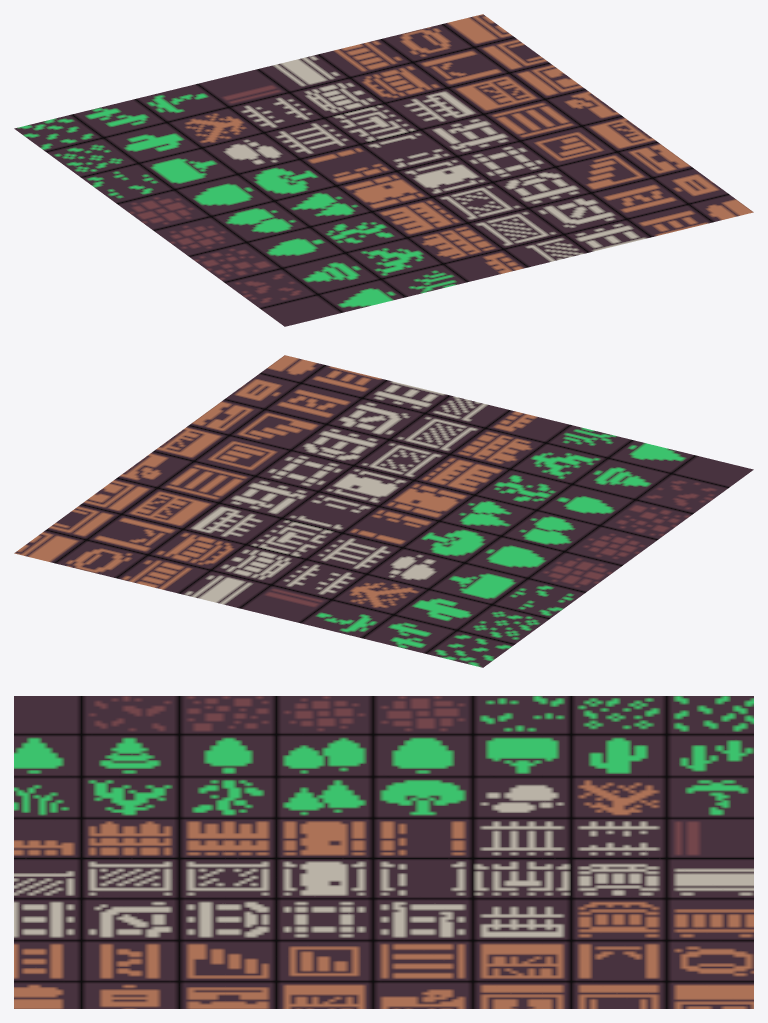
The model's file is empty.gltf.
3 views of the same model, one above another, from view 1: azimuth 30°, elevation 25°; view 2: azimuth 150°, elevation 25°; view 3: azimuth 270°, elevation 25° (orthographic). The views are drawn at different scales.
Parts seen in each view (by area): view 1: Plane; view 2: Plane; view 3: Plane.
Boxes of the visible parts, x1,y1,x2,y2 form: Plane: (14, 14, 753, 326); Plane: (14, 355, 753, 667); Plane: (14, 696, 753, 1008).
Bounding box in the file's own units: 9.62 × 0 × 9.62.
Materials: 1 (1 with a texture image).
